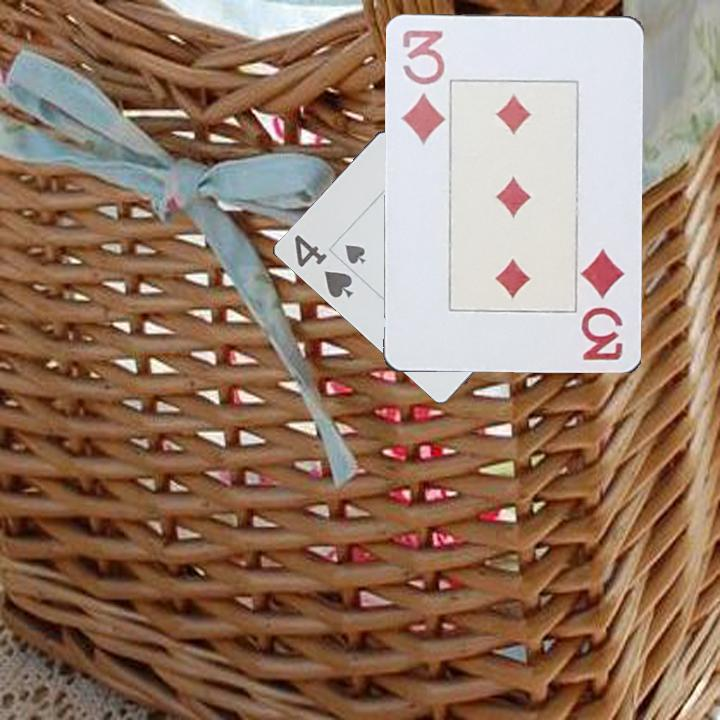3d: (397, 26, 448, 148), (579, 246, 628, 364)
4s: (290, 231, 356, 304)
